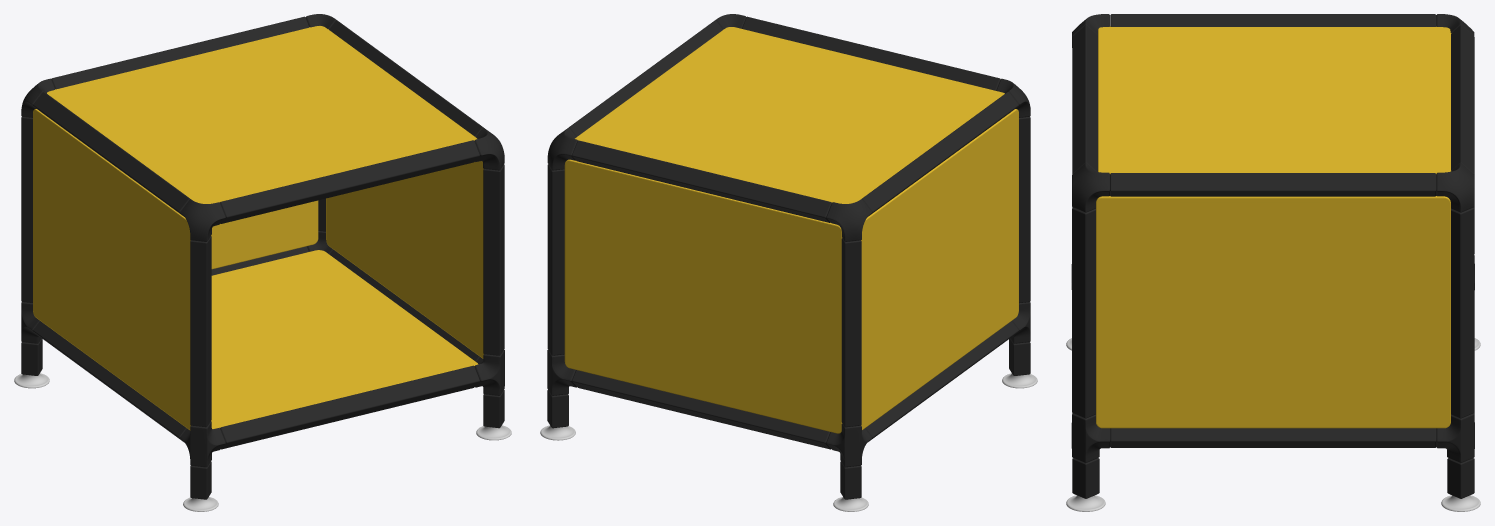
3 views of the same model, side by side, from view 1: azimuth 30°, elevation 25°; view 2: azimuth 150°, elevation 25°; view 3: azimuth 270°, elevation 25° (orthographic). The views are drawn at different scales.
Parts seen in each view (by area): view 1: 329x329x229; view 2: 329x329x229; view 3: 329x329x229.
Boxes of the visible parts, bbox=[...] form: 329x329x229: bbox=[14, 14, 511, 511]; 329x329x229: bbox=[540, 14, 1037, 511]; 329x329x229: bbox=[1066, 14, 1480, 511].
Size of the model in its own units: 0.4189 by 0.3683 by 0.4182.
